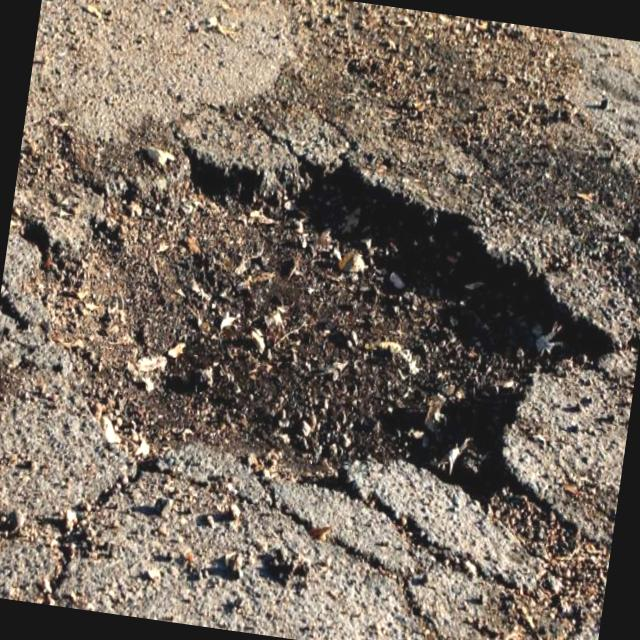bad-road: (0, 105, 640, 585)
